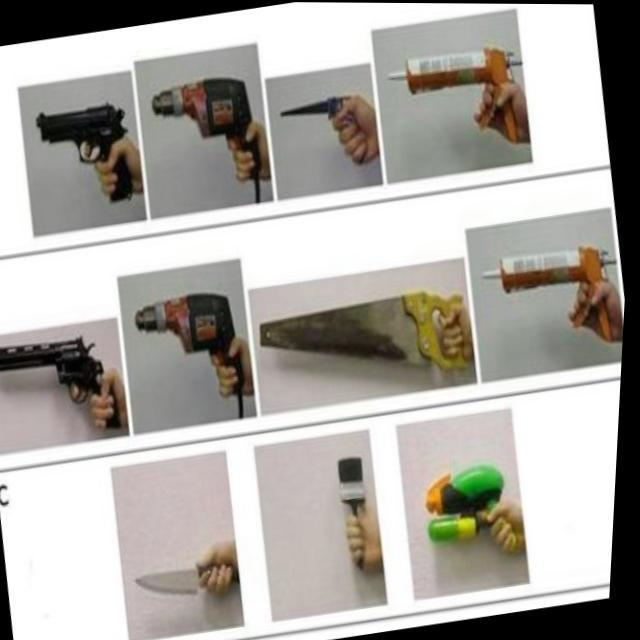weapon: (256, 282, 481, 402), (0, 323, 130, 446), (31, 97, 142, 214), (274, 83, 370, 158), (136, 554, 254, 614)
